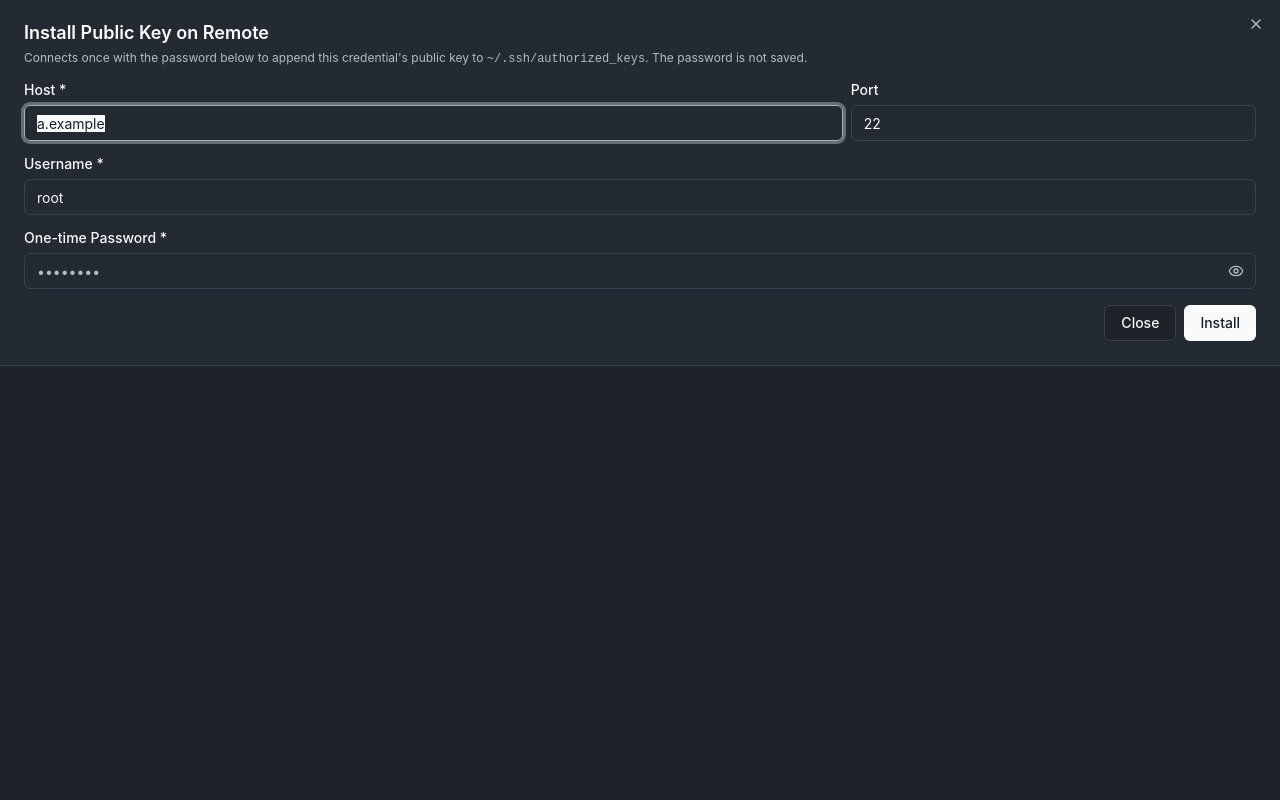
Test case: InstallKeyDialog › after success → edit → second success, shows success again
# First install
Type "p" into the password field labelled "One-time Password *" at [640, 271], box [24,253,1256,289]
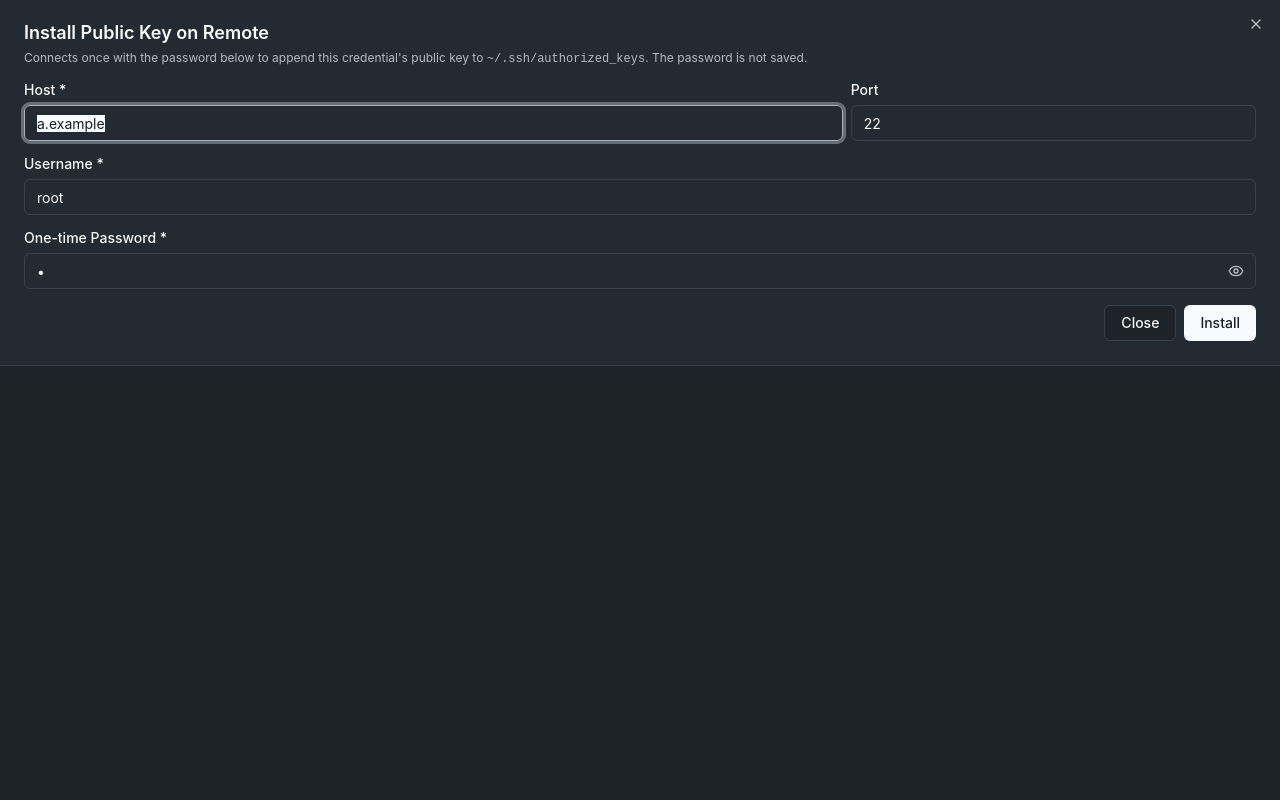
Click the button "Install" at [1220, 323], box [1184,305,1256,341]
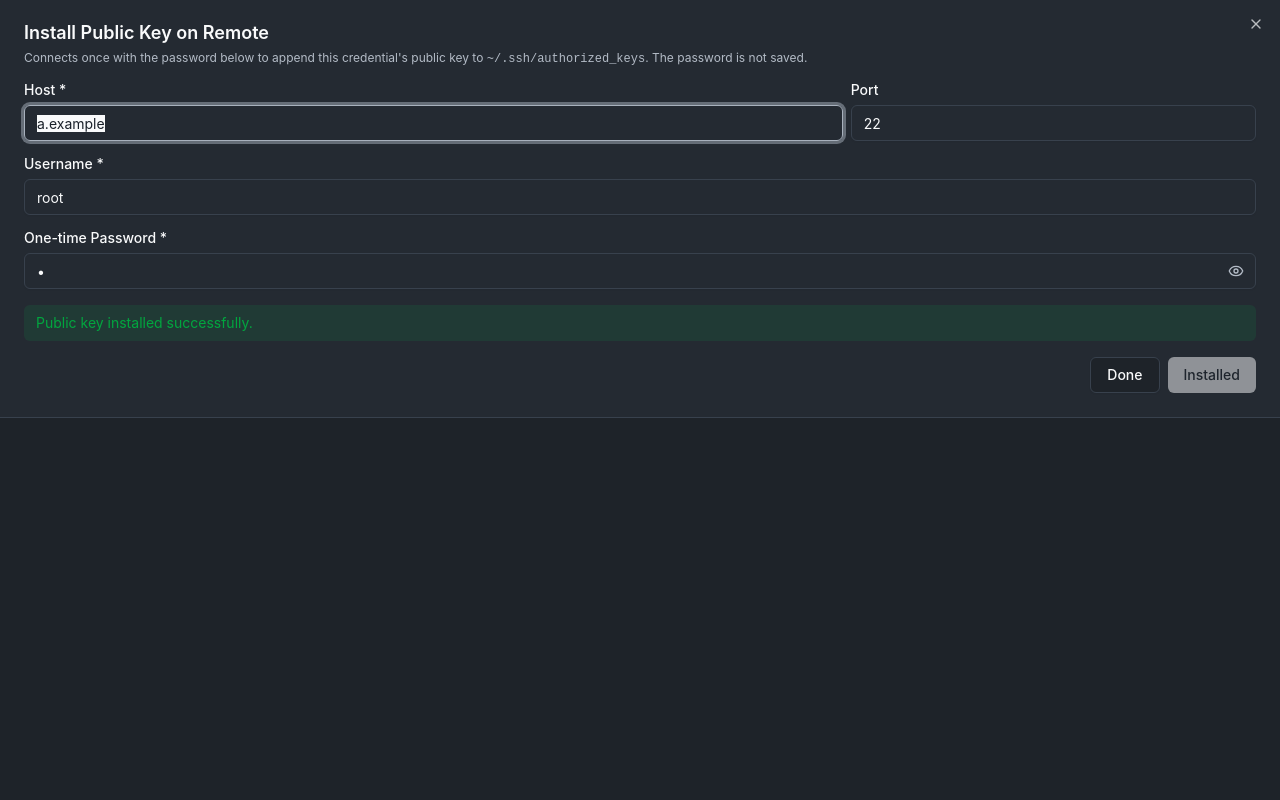
Check: the button "Installed" is shown, box [1168,357,1256,393]
# Edit to dismiss success and re-enable
Replace the text in the field labelled "Host *" with "b.example" at [433, 123], box [24,105,843,141]
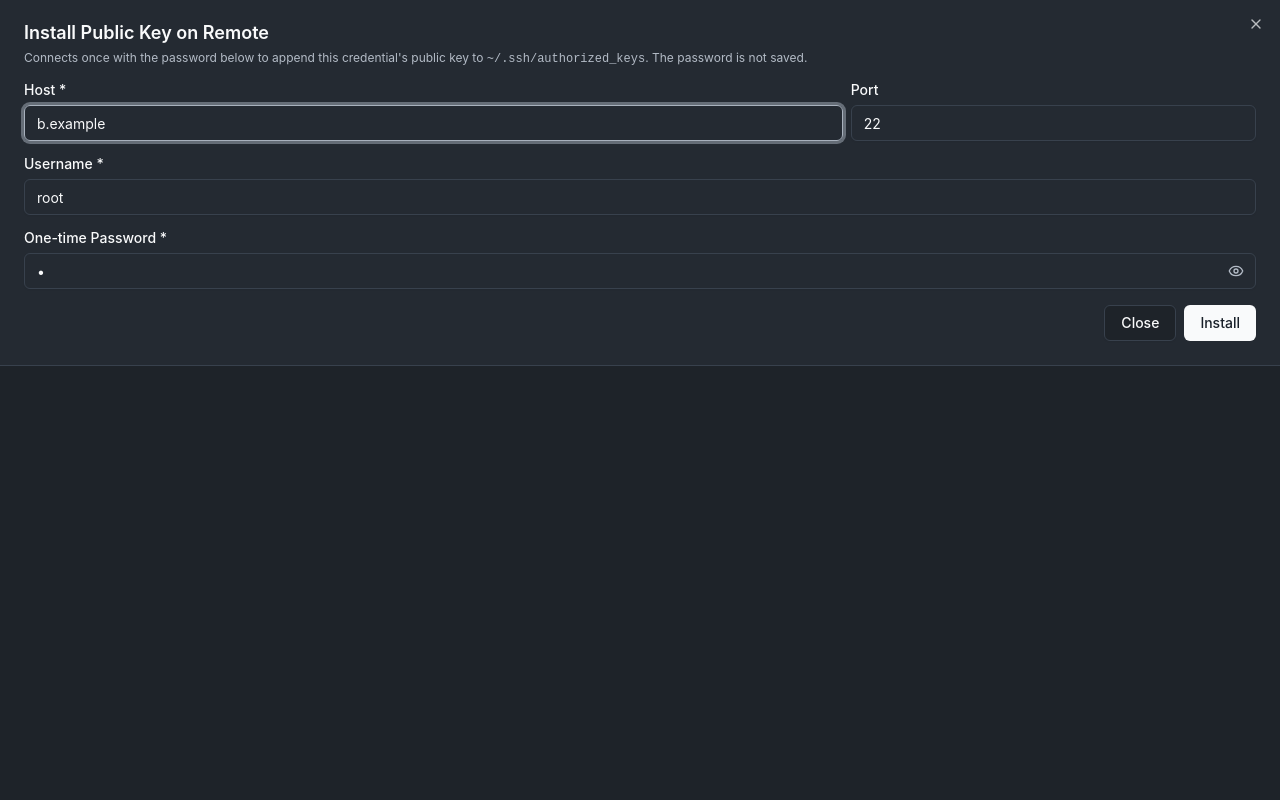
Check: the button "Install" is enabled
# Second install — success message and Installed button must reappear
Click the button "Install" at [1220, 323], box [1184,305,1256,341]
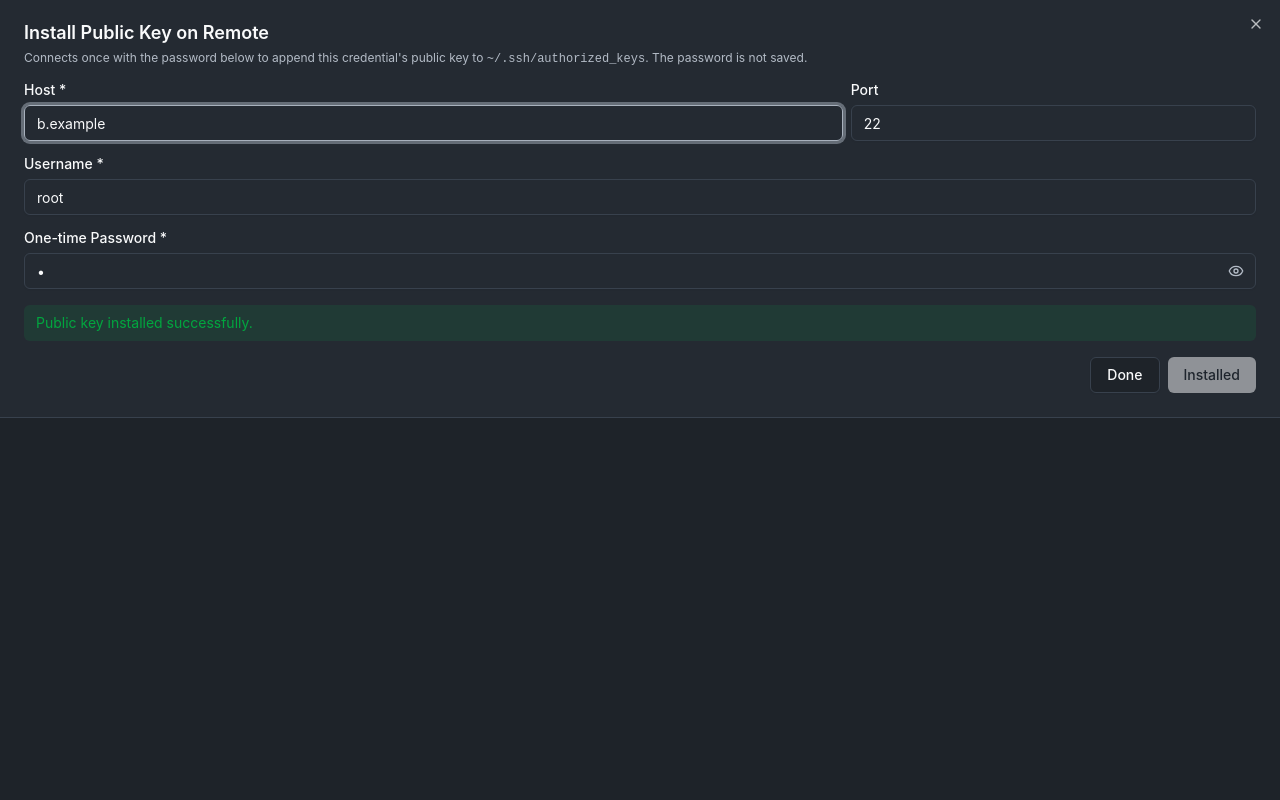
Check: the button "Installed" is disabled, box [1168,357,1256,393]
Check: the message shows "installed successfully", box [36,314,253,331]
